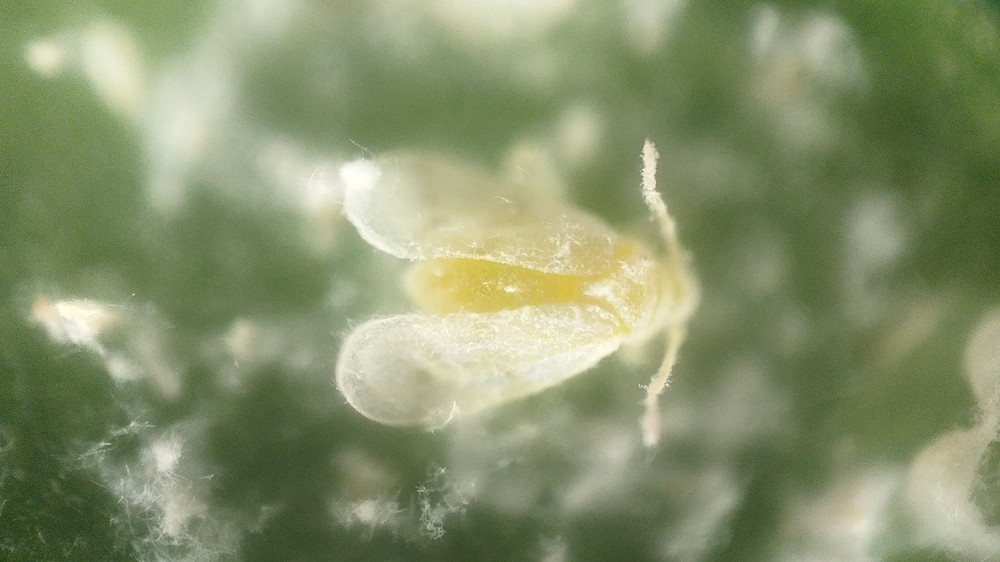Mosca Blanca: (297, 108, 710, 469)
